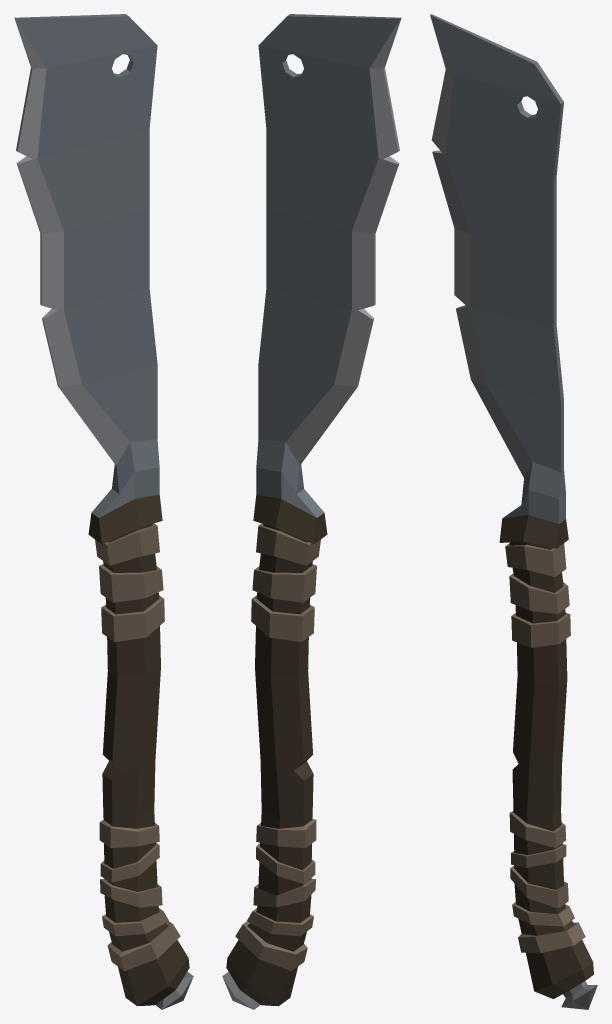
The model's file is ButcherCleaver.glb.
The picture shows the model from 3 angles, left to right: view 1: azimuth 30°, elevation 25°; view 2: azimuth 150°, elevation 25°; view 3: azimuth 330°, elevation 25°; orthographic projection. The views are drawn at different scales.
Visible parts, largest first — view 1: ButcherCleaver; view 2: ButcherCleaver; view 3: ButcherCleaver.
Boxes of the visible parts, left/top/right/bottom form: ButcherCleaver: left=14, top=14, right=193, bottom=1009; ButcherCleaver: left=222, top=14, right=401, bottom=1009; ButcherCleaver: left=430, top=14, right=597, bottom=1009.
Bounding box in the file's own units: 0.1992 × 1.11 × 0.0528.
Materials: 1 (1 with a texture image).
